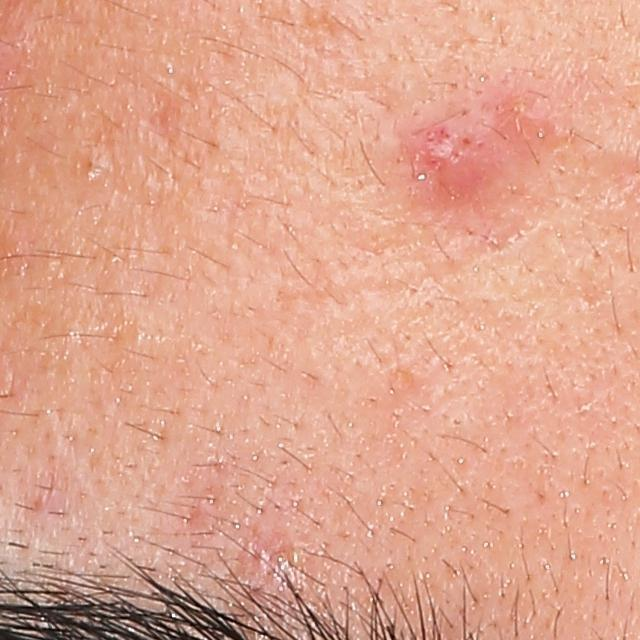papule: (412, 113, 512, 194), (491, 89, 551, 144)
